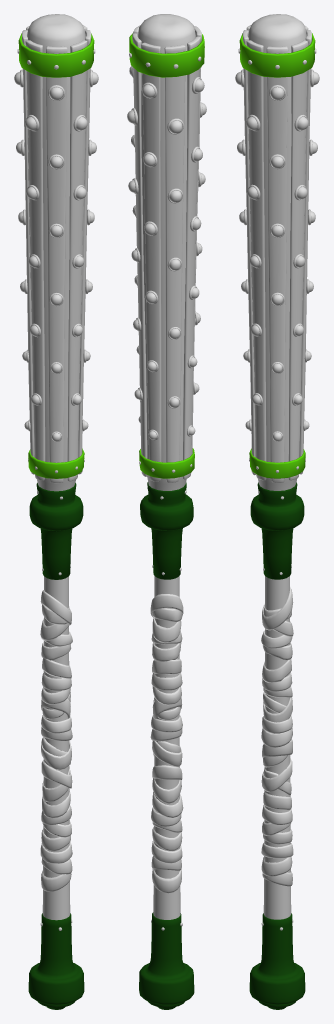
Rendered from weapon_lp.fbx.
3 renders of one model, left to right at view 1: azimuth 90°, elevation 25°; view 2: azimuth 150°, elevation 25°; view 3: azimuth 270°, elevation 25°, orthographic.
Parts seen in each view (by area): view 1: wood_rings_lp, metal_rings_lp, wood_grip_lp, leashes_lp, bolts_lp; view 2: wood_rings_lp, metal_rings_lp, wood_grip_lp, leashes_lp, bolts_lp; view 3: wood_rings_lp, metal_rings_lp, wood_grip_lp, leashes_lp, bolts_lp.
Part boxes in pixels (left/top/right/bottom): wood_rings_lp: left=22, top=25, right=91, bottom=483; metal_rings_lp: left=18, top=33, right=94, bottom=1009; wood_grip_lp: left=27, top=14, right=85, bottom=920; leashes_lp: left=40, top=590, right=72, bottom=891; bolts_lp: left=14, top=69, right=98, bottom=441; wood_rings_lp: left=132, top=25, right=201, bottom=482; metal_rings_lp: left=129, top=33, right=204, bottom=1009; wood_grip_lp: left=138, top=14, right=195, bottom=919; leashes_lp: left=150, top=594, right=183, bottom=893; bolts_lp: left=127, top=66, right=206, bottom=440; wood_rings_lp: left=242, top=25, right=311, bottom=482; metal_rings_lp: left=239, top=33, right=315, bottom=1009; wood_grip_lp: left=248, top=14, right=306, bottom=919; leashes_lp: left=261, top=587, right=293, bottom=886; bolts_lp: left=235, top=69, right=319, bottom=441.
Bounding box in the file's own units: 14.65 × 189 × 14.65.
